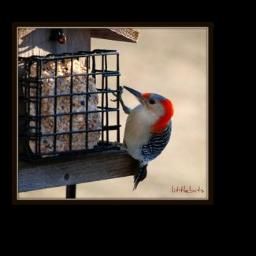Woodpecker: (108, 86, 173, 191)
